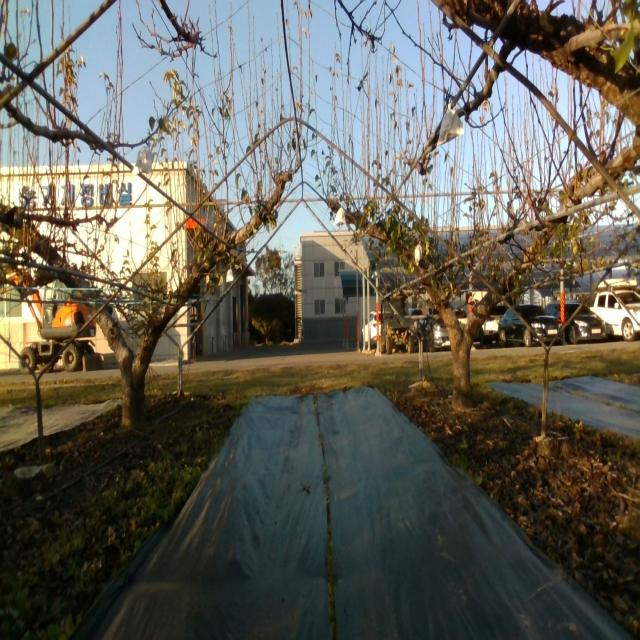pearbags: (435, 100, 465, 150), (132, 140, 154, 176), (334, 207, 346, 227), (414, 241, 424, 264)
